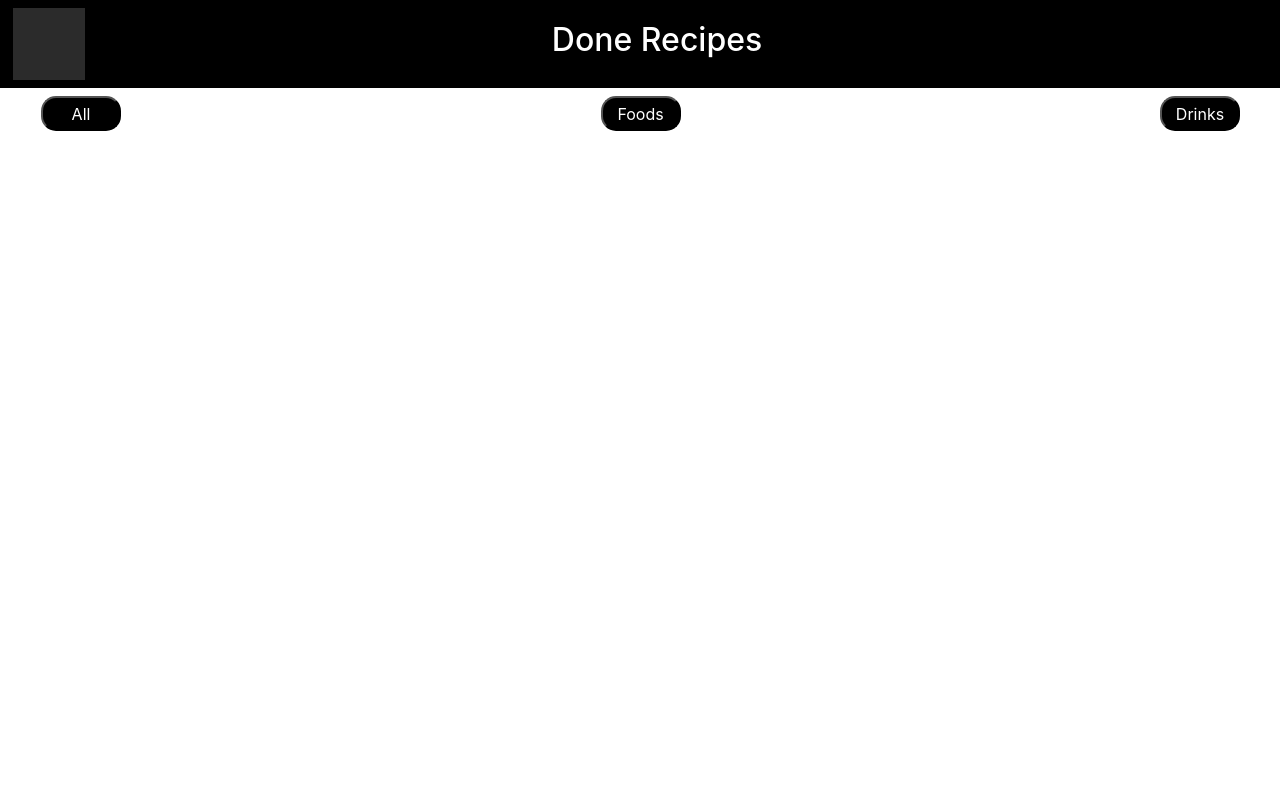
Test: Testes da página de receitas feitas › Verifica o funcionamento dos botões de filtro do profile
This screenshot has width=1280, height=800.
Step 1. Click the button with test id "filter-by-food-btn" → [640, 114], box [600,96,680,131]
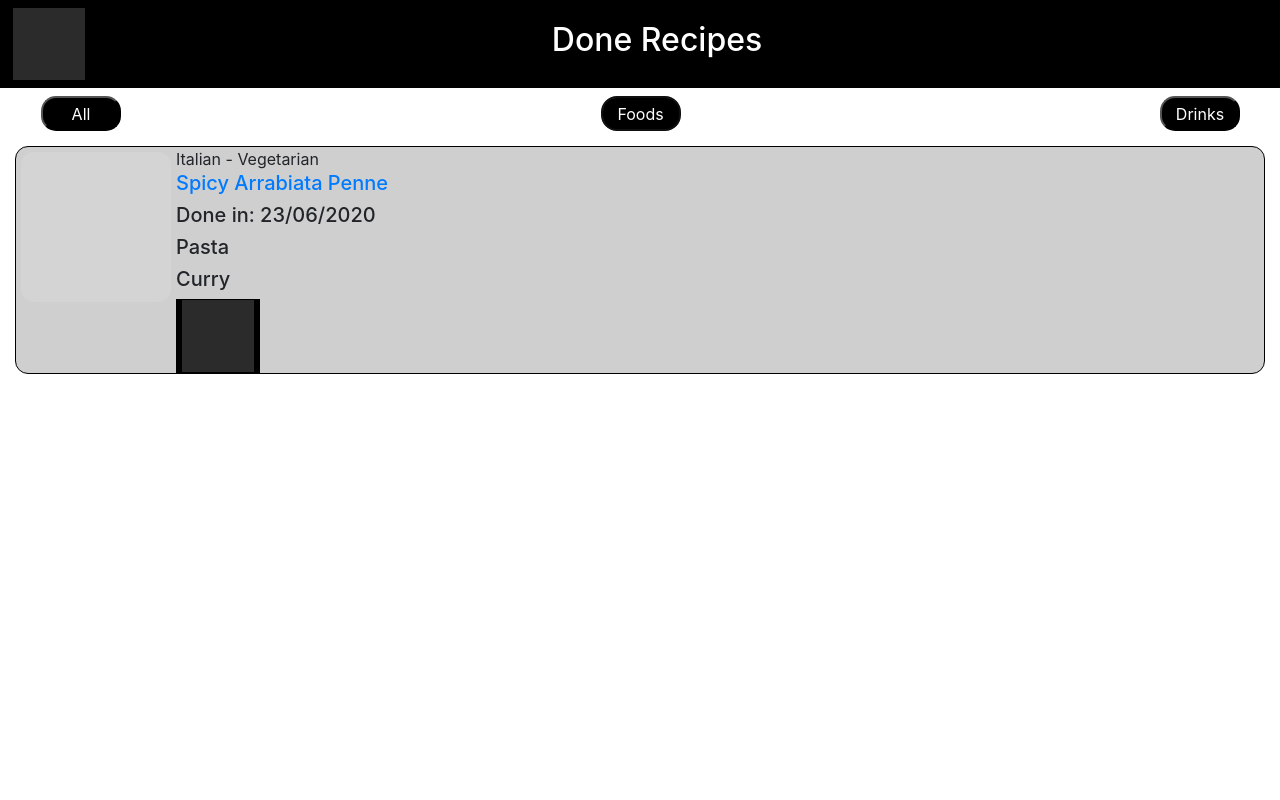
Check: the text "Aquamarine" is not shown
Check: the heading "Spicy Arrabiata Penne" is shown, box [176,171,388,195]
Step 2. Click the button with test id "filter-by-all-btn" → [81, 114], box [41,96,121,131]
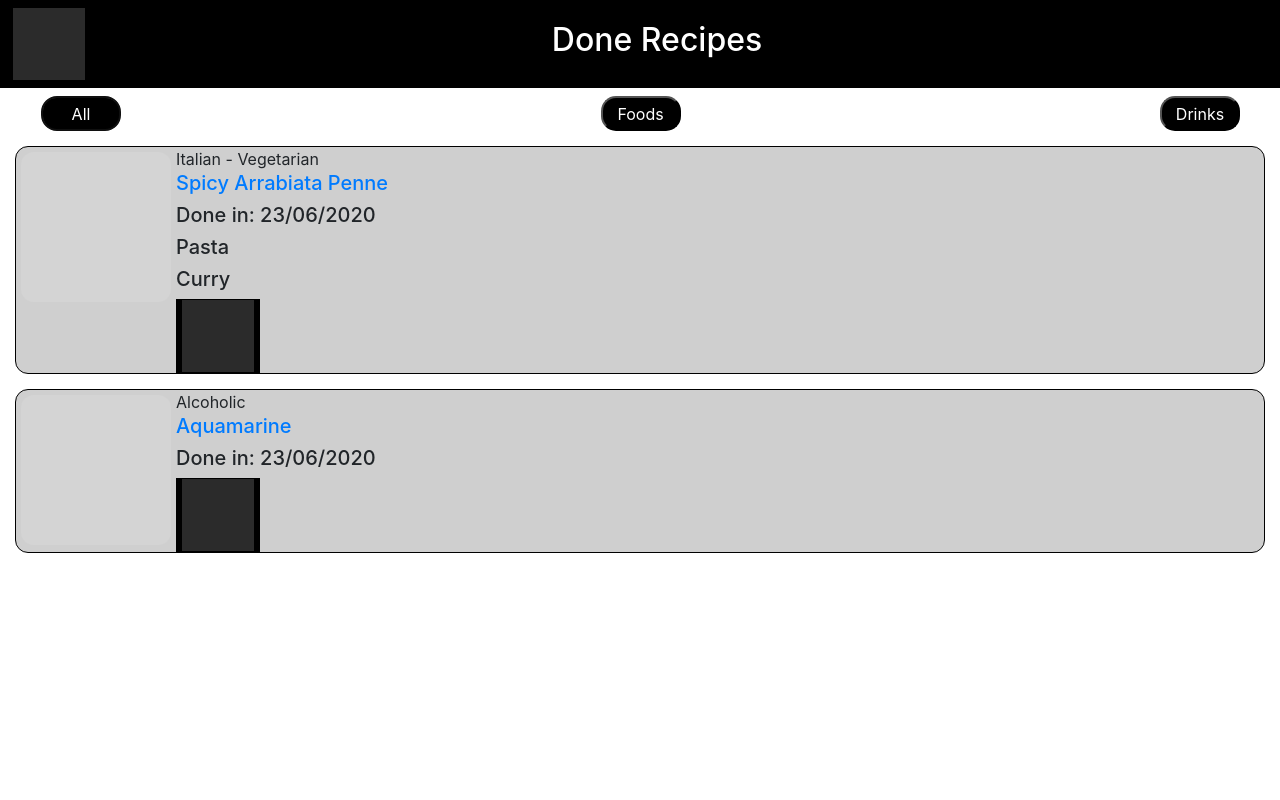
Step 3. Click the button with test id "filter-by-drink-btn" → [1200, 114], box [1160,96,1240,131]
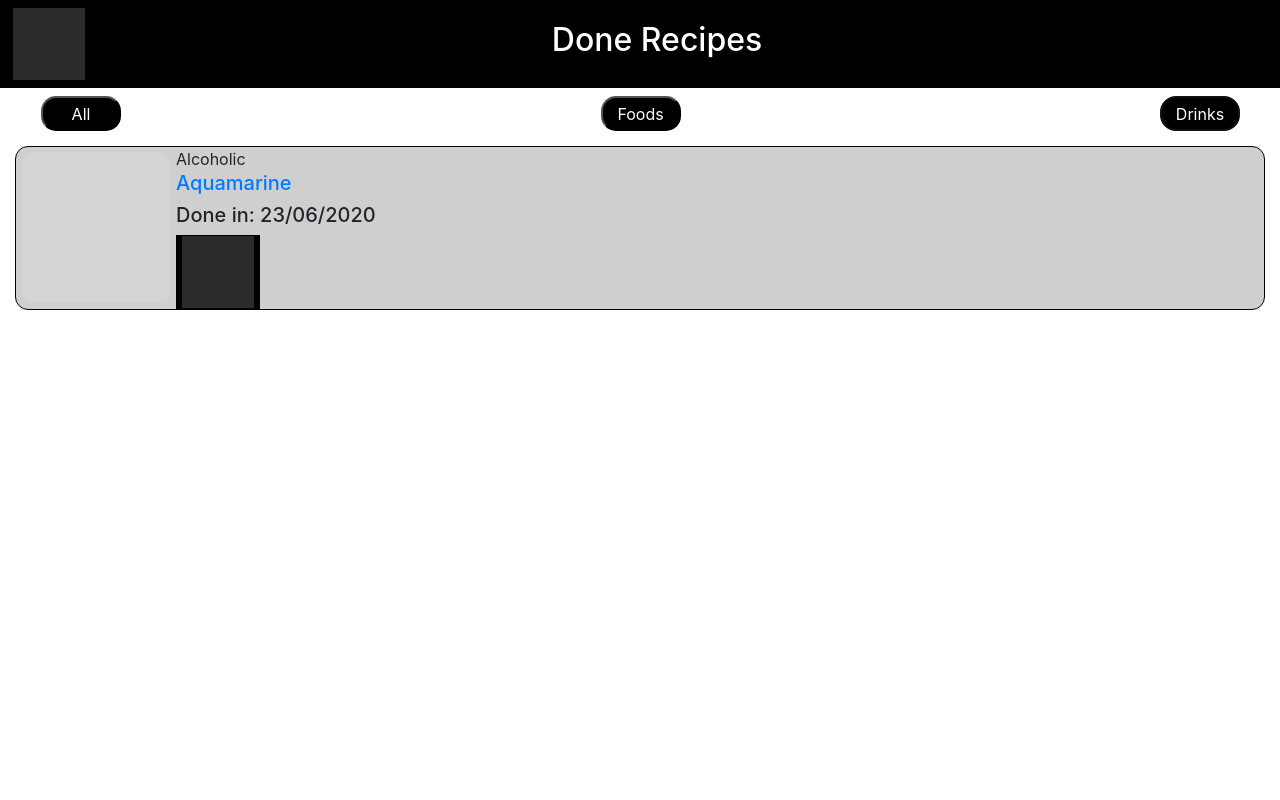
Check: the heading "Aquamarine" is shown, box [176,171,292,195]
Check: the link "Spicy Arrabiata Penne" is gone
Step 4. Click the button with test id "filter-by-all-btn" → [81, 114], box [41,96,121,131]
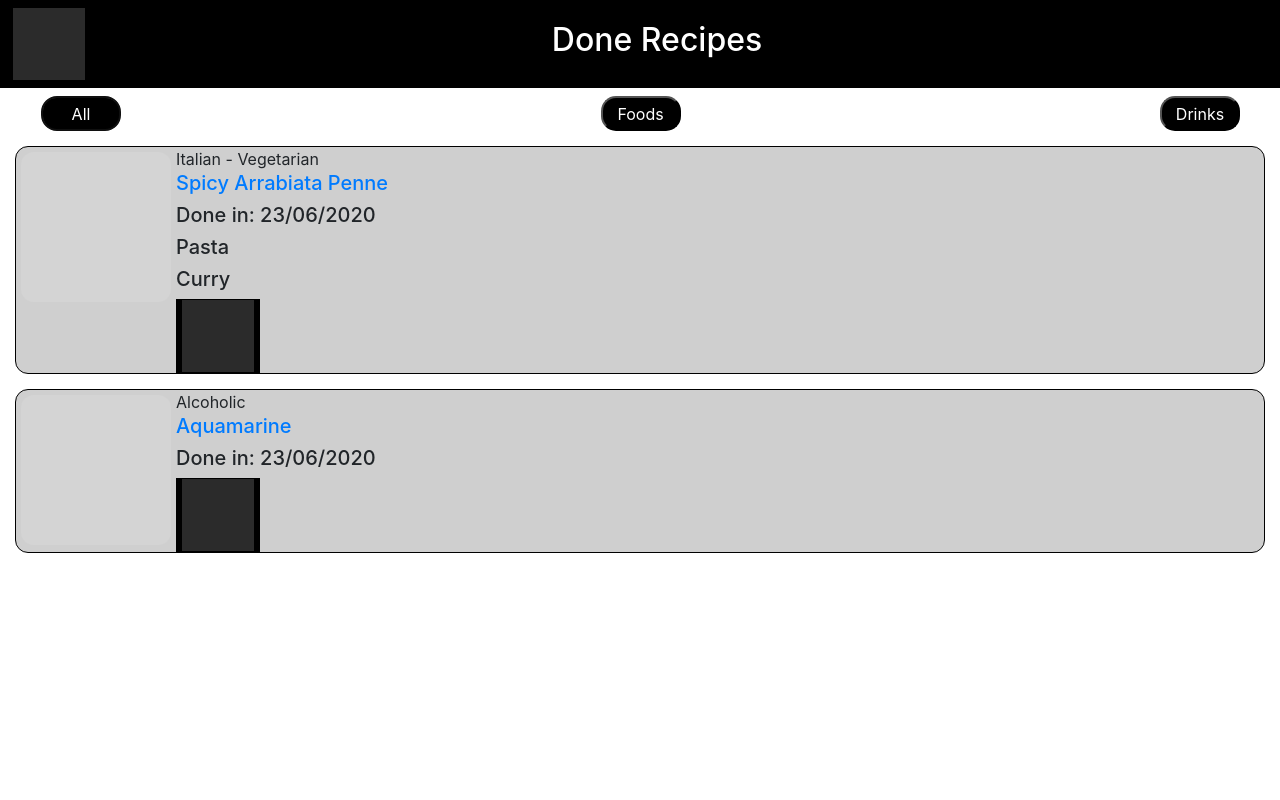
Check: the heading "Aquamarine" is shown, box [176,414,292,438]
Check: the heading "Spicy Arrabiata Penne" is shown, box [176,171,388,195]
